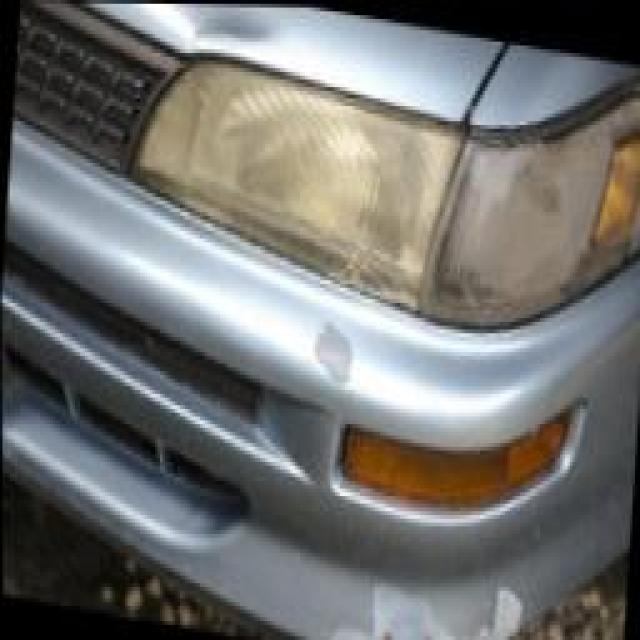Bonnet: (70, 0, 300, 65)
Bumper: (258, 284, 564, 639)
